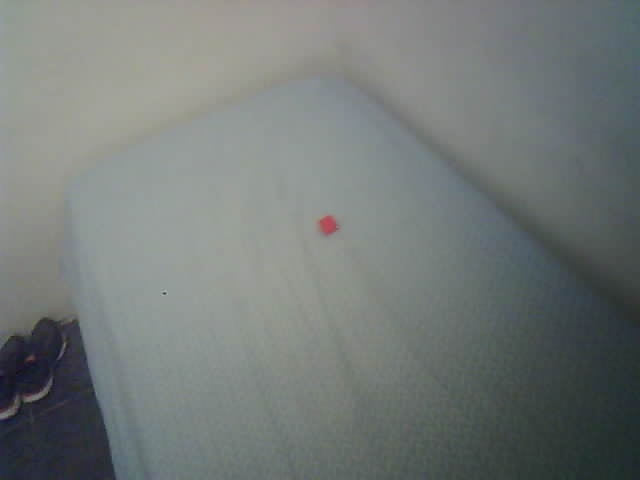lego: (318, 215, 338, 235)
